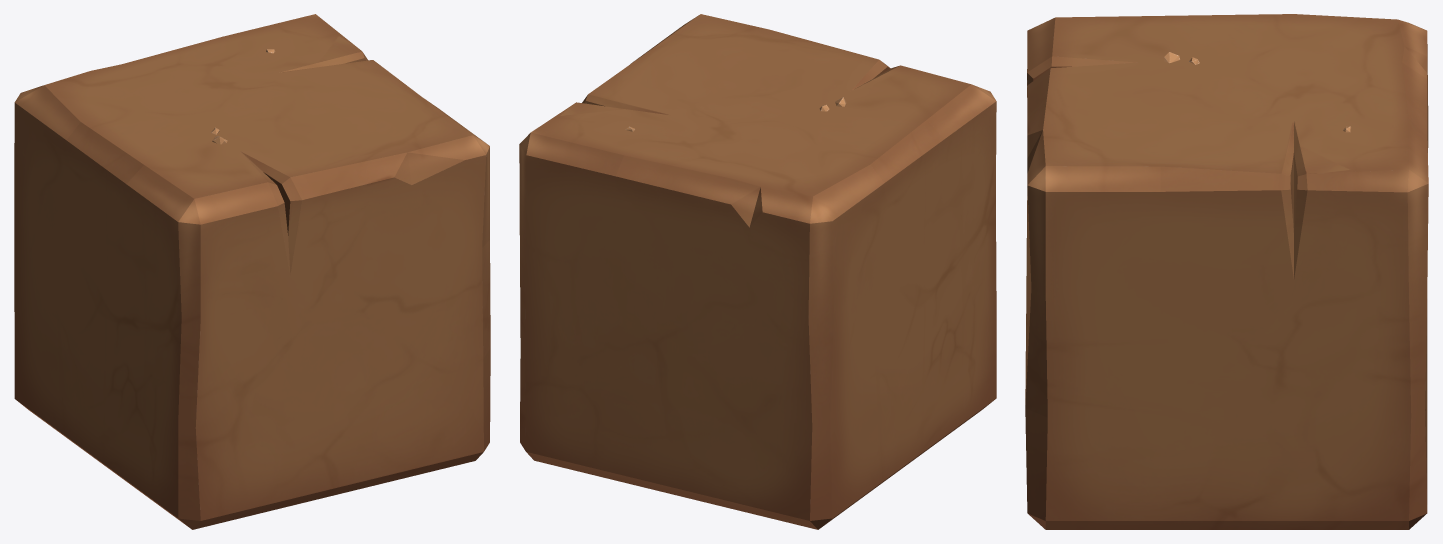
Rendered from durt.gltf.
3 views of the same model, side by side, from view 1: azimuth 30°, elevation 25°; view 2: azimuth 150°, elevation 25°; view 3: azimuth 270°, elevation 25° (orthographic). The views are drawn at different scales.
Parts seen in each view (by area): view 1: durt; view 2: durt; view 3: durt.
Boxes of the visible parts, <box> form: durt: <box>14,14,490,529</box>; durt: <box>519,14,996,529</box>; durt: <box>1025,14,1428,529</box>.
Bounding box in the file's own units: 4.54 × 4.59 × 4.54.
Materials: 2 (2 with a texture image).
